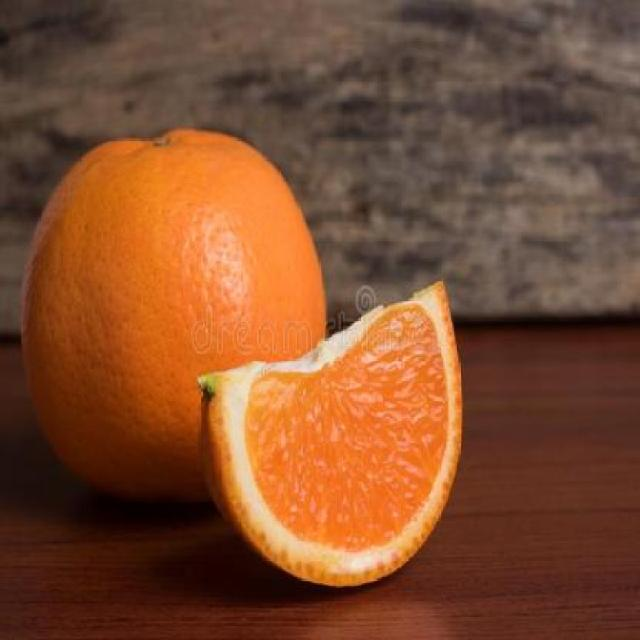Orange: (17, 125, 328, 503), (195, 277, 463, 589)
